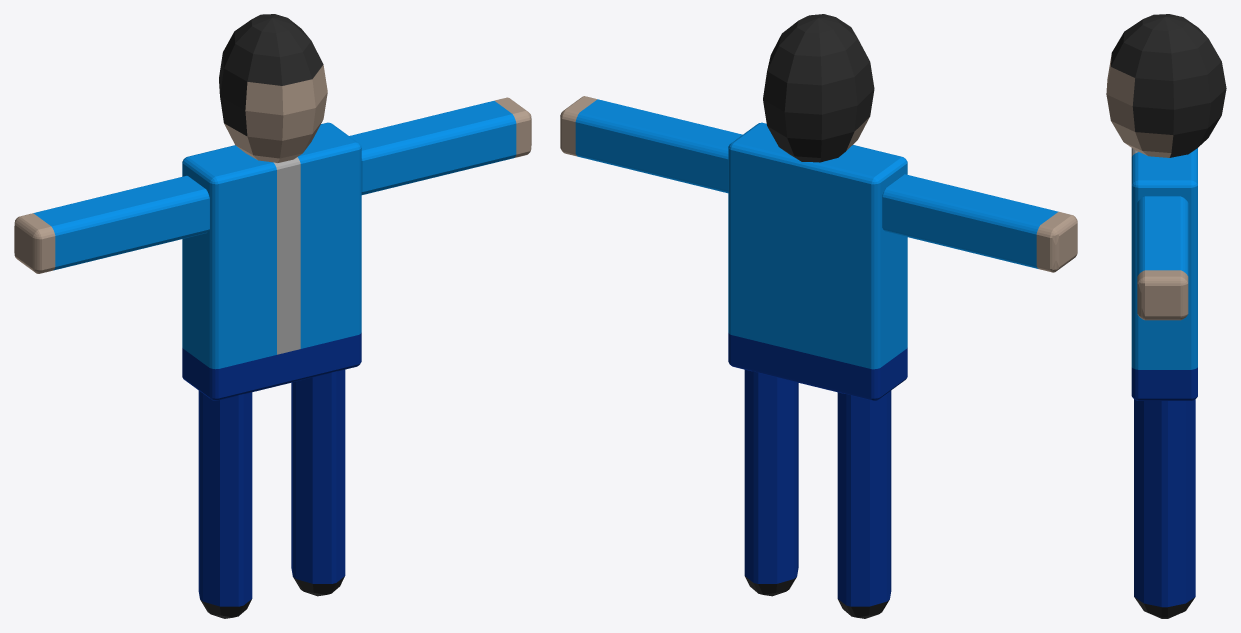
File: HALP ME guy.fbx
3 renders of one model, left to right at view 1: azimuth 30°, elevation 25°; view 2: azimuth 150°, elevation 25°; view 3: azimuth 270°, elevation 25°, orthographic.
Visible parts, largest first — view 1: polySurface2; view 2: polySurface2; view 3: polySurface2.
Part boxes in pixels (bbox=[...]): polySurface2: bbox=[14, 14, 531, 618]; polySurface2: bbox=[560, 14, 1077, 618]; polySurface2: bbox=[1106, 14, 1226, 618].
Size of the model in its own units: 2.28 by 2.56 by 0.4827.
